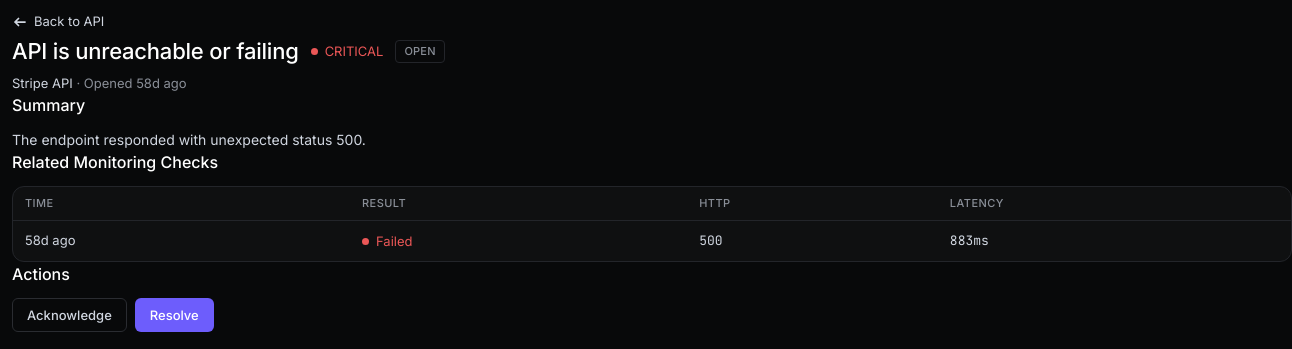
Test: IncidentDetailPage › resolves an incident and hides the actions afterward
The image size is (1292, 349).
Click the button "Resolve" at (174, 315), box [135, 298, 214, 332]
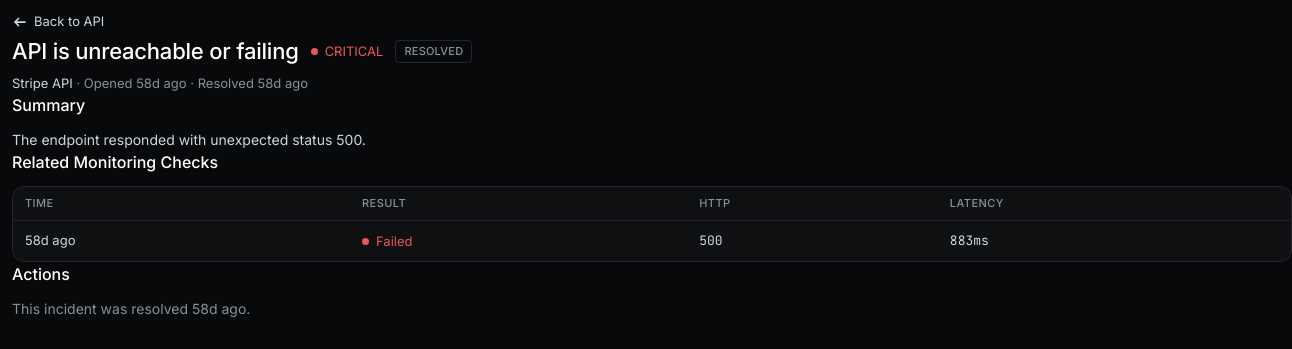
Check: the text "This incident was resolved 58d ago." is shown, box [12, 300, 250, 317]
Check: the button "Acknowledge" is gone
